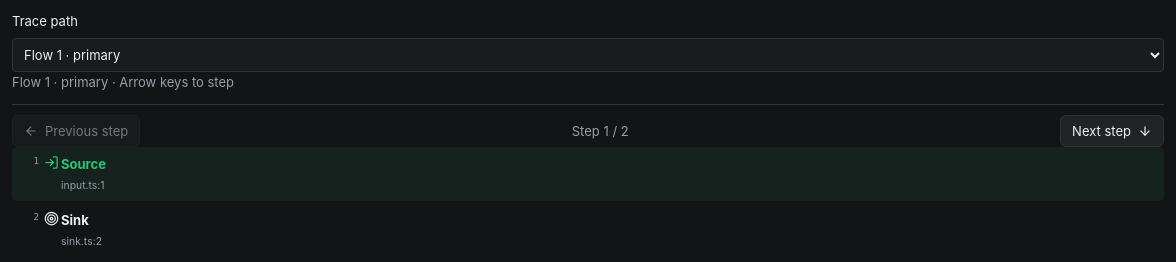
Test: trace debugger › keeps independent thread flows separate, with neutral Unknown labels
Select "Flow 1 · separate" in the dropdown named "Thread flow" at (588, 54), box left=12, top=38, right=1164, bottom=72
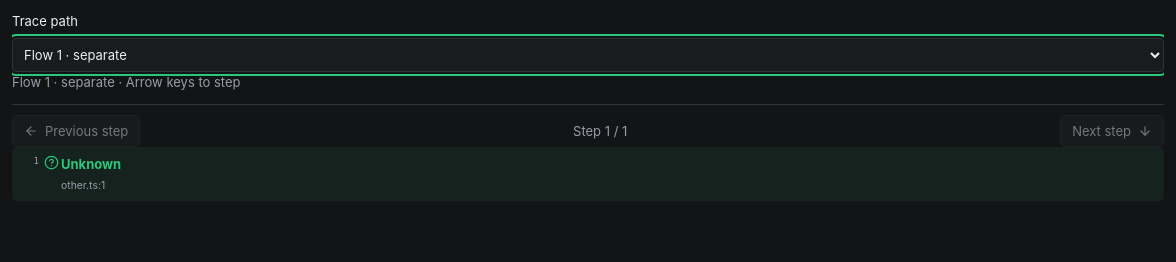
expect the text "Step 1 / 1" is shown: met, box left=573, top=122, right=627, bottom=141
expect the button "Sink" is gone: met
expect the text "Unknown" is shown: met, box left=61, top=156, right=121, bottom=172
